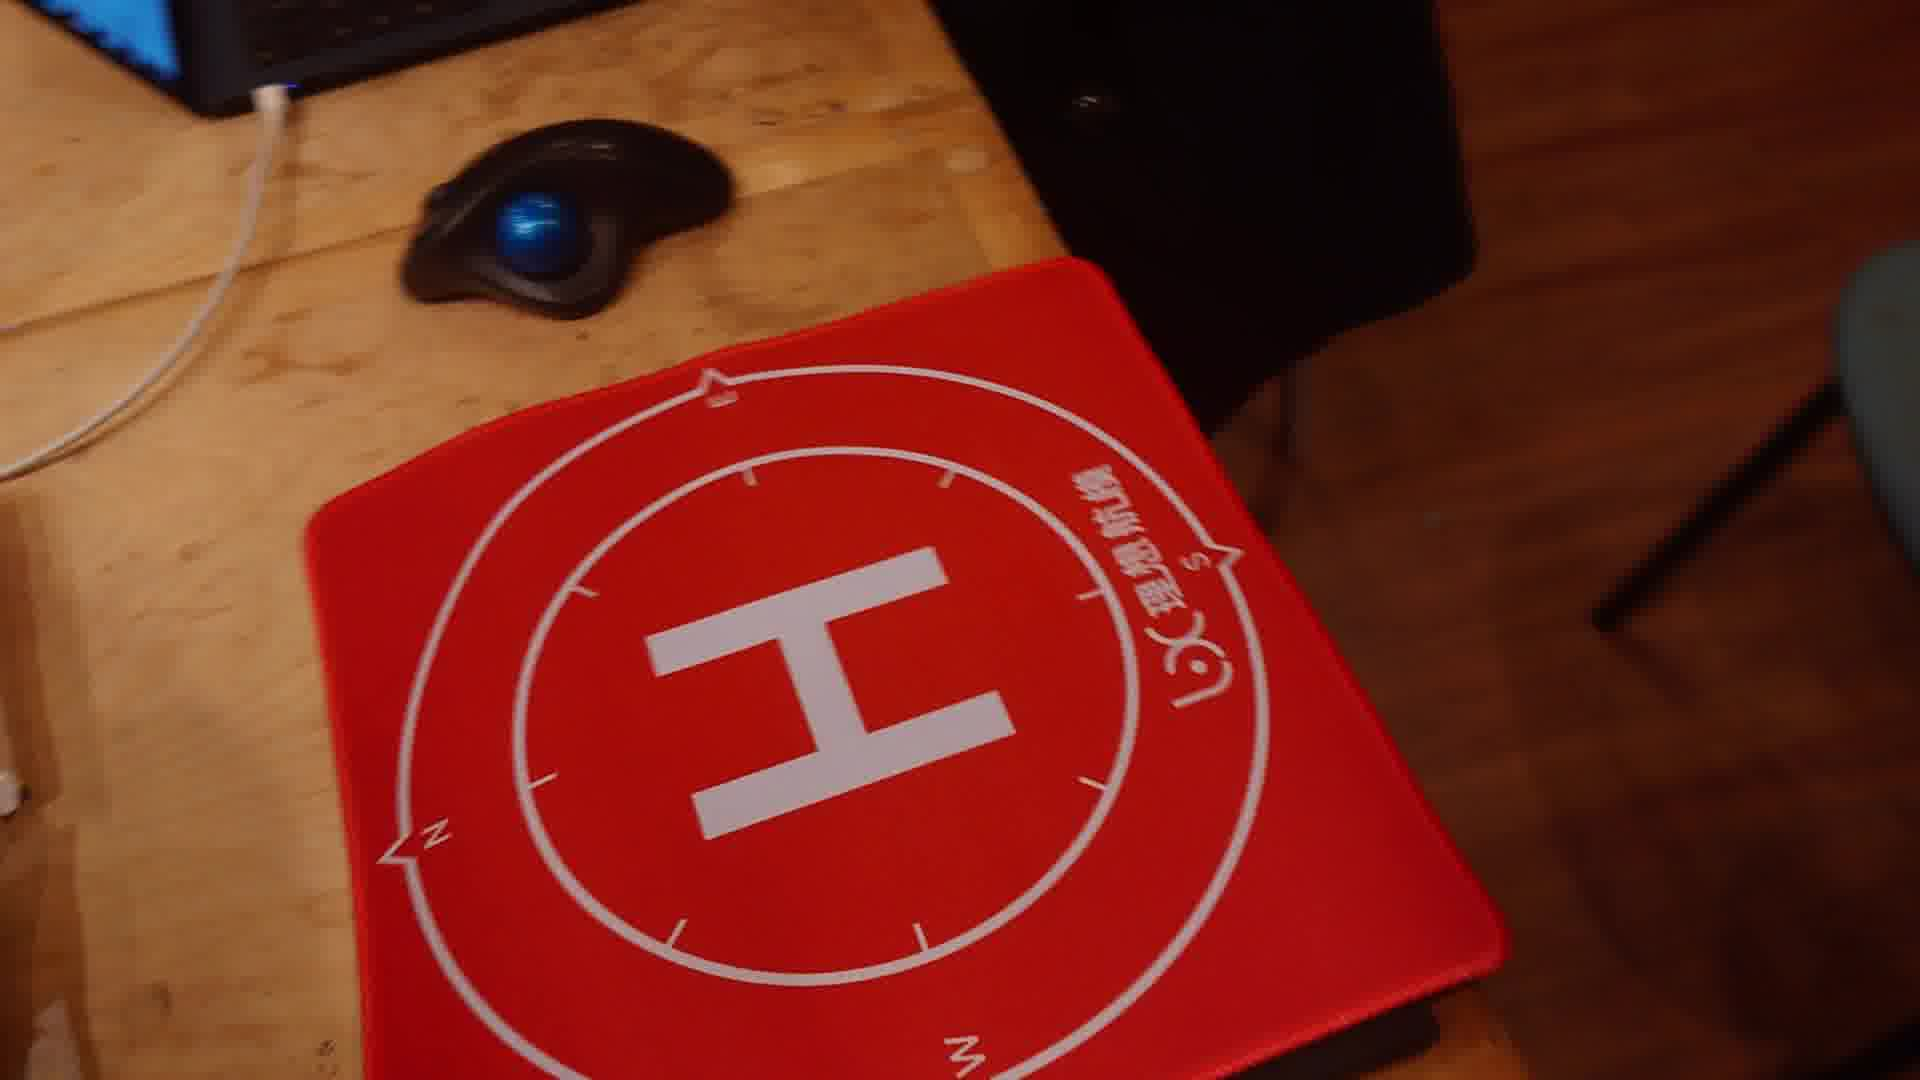H: (644, 543, 1021, 845)
